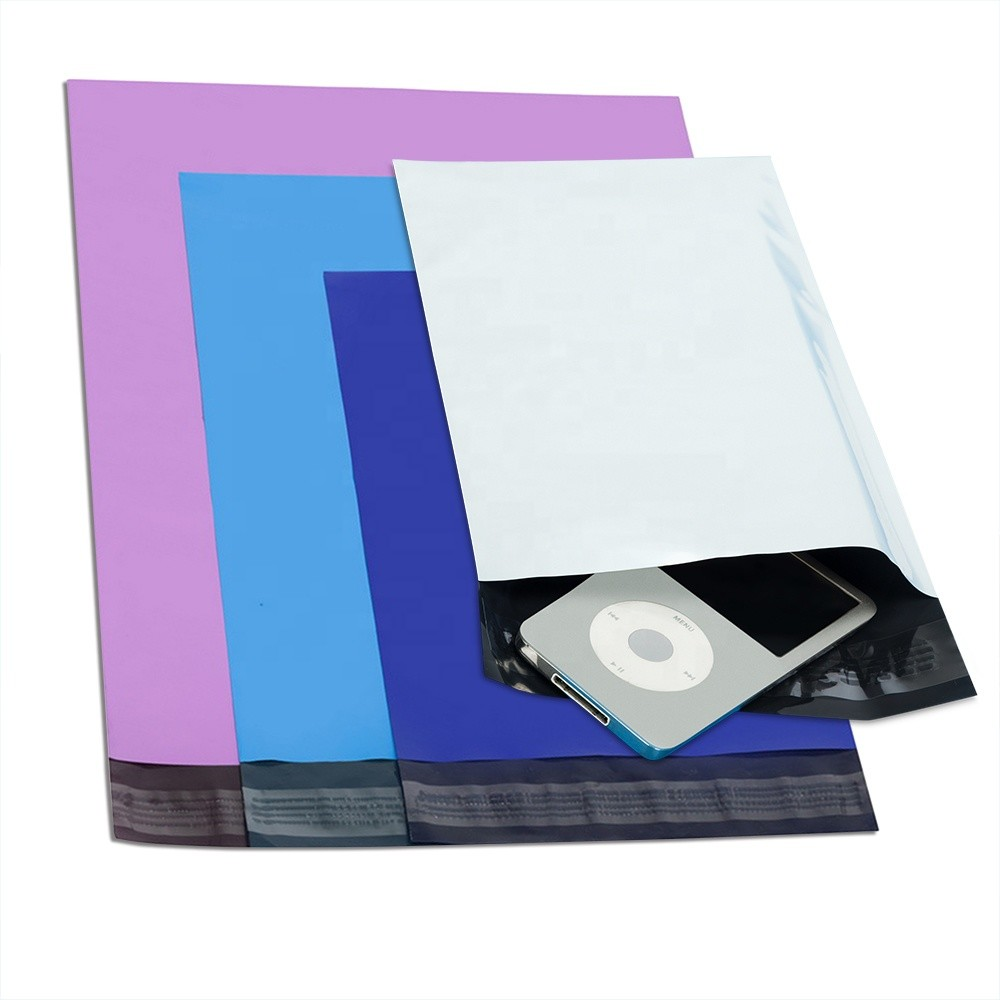塑料袋: (62, 81, 876, 846), (394, 158, 936, 594)
